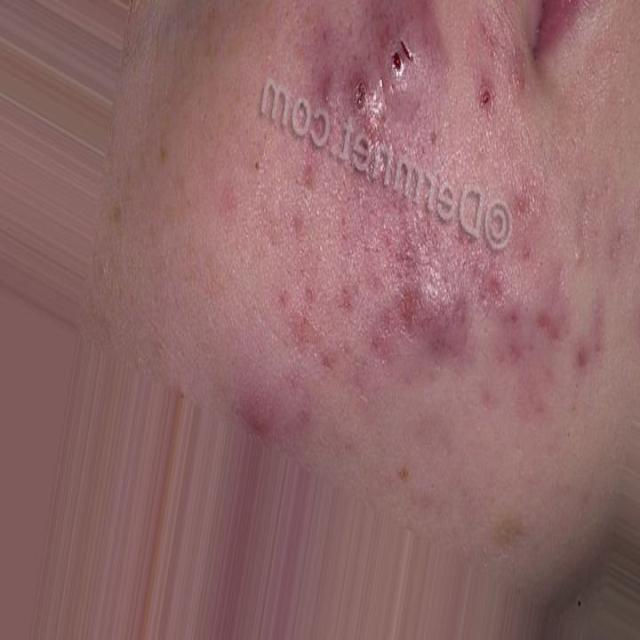acne: (336, 34, 432, 122)
